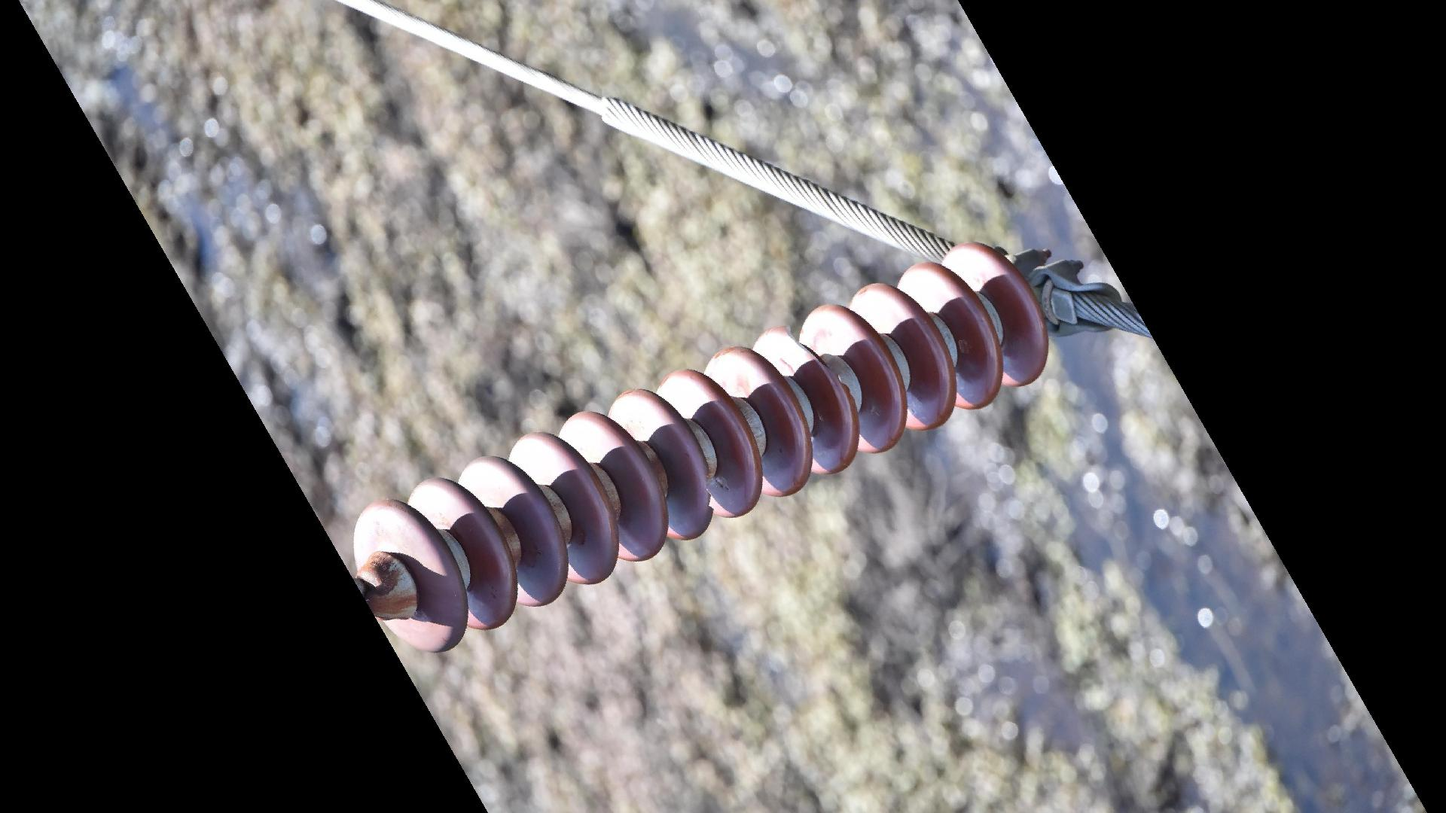insulator: (347, 235, 1054, 658)
insulator_breakage: (776, 318, 860, 408)
